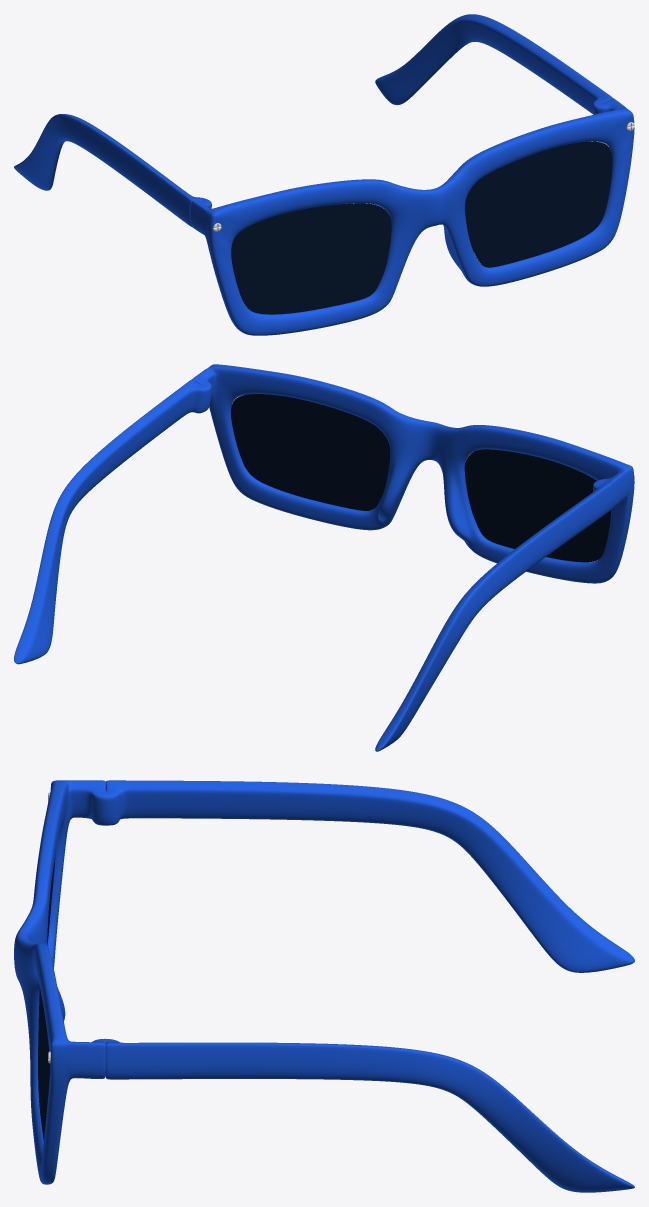
The model's file is Sunglass03.fbx.
3 renders of one model, top to bottom at view 1: azimuth 30°, elevation 25°; view 2: azimuth 150°, elevation 25°; view 3: azimuth 270°, elevation 25°, orthographic. The views are drawn at different scales.
Parts seen in each view (by area): view 1: Cube.011, Cube.013; view 2: Cube.011, Cube.013; view 3: Cube.011, Cube.013.
Boxes of the visible parts, x1,y1,x2,y2 form: Cube.011: (14, 14, 634, 335); Cube.013: (231, 141, 612, 314); Cube.011: (14, 364, 634, 751); Cube.013: (231, 394, 611, 562); Cube.011: (14, 780, 634, 1192); Cube.013: (38, 855, 55, 1140).
Bounding box in the file's own units: 108 × 34.06 × 106.
